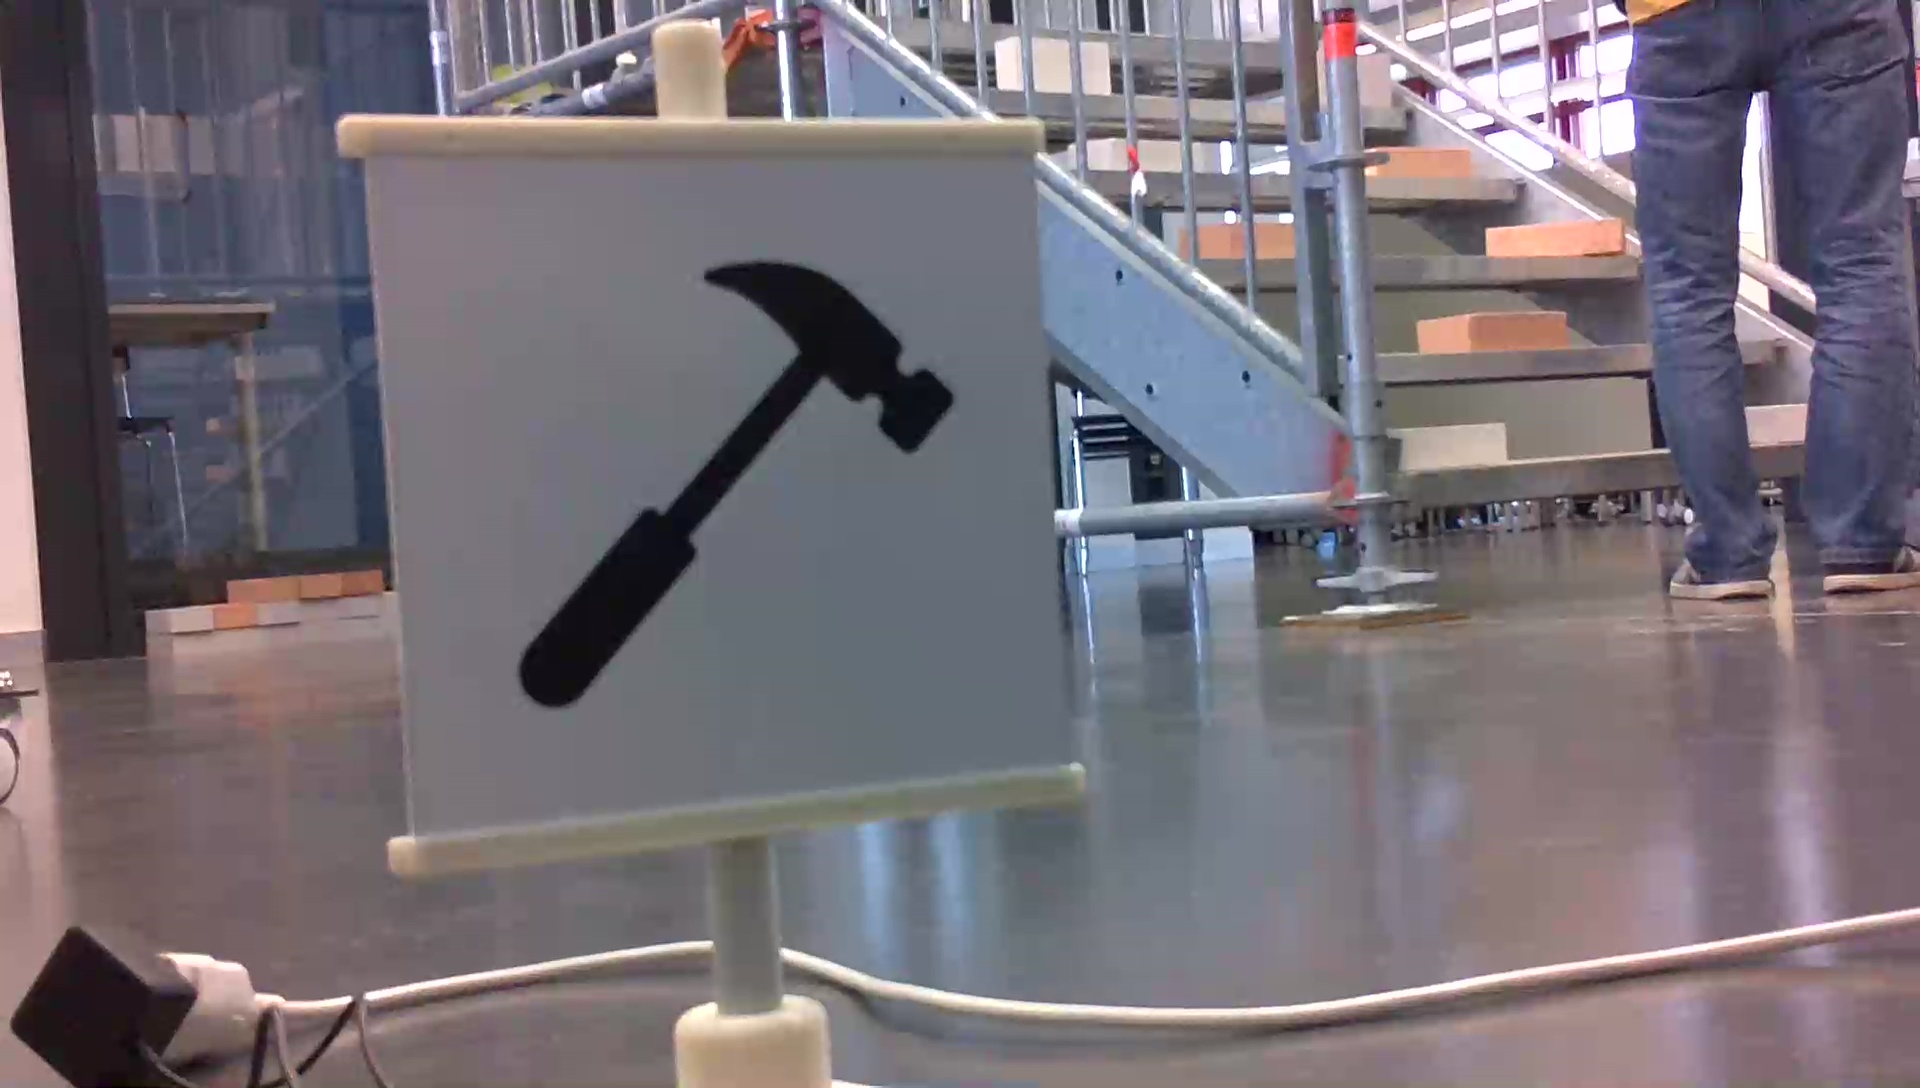brick: (1418, 310, 1567, 352), (1398, 422, 1505, 466), (1487, 222, 1622, 255), (1371, 148, 1473, 181), (1745, 402, 1807, 443), (1356, 58, 1390, 103)
hammer: (506, 256, 960, 712)
